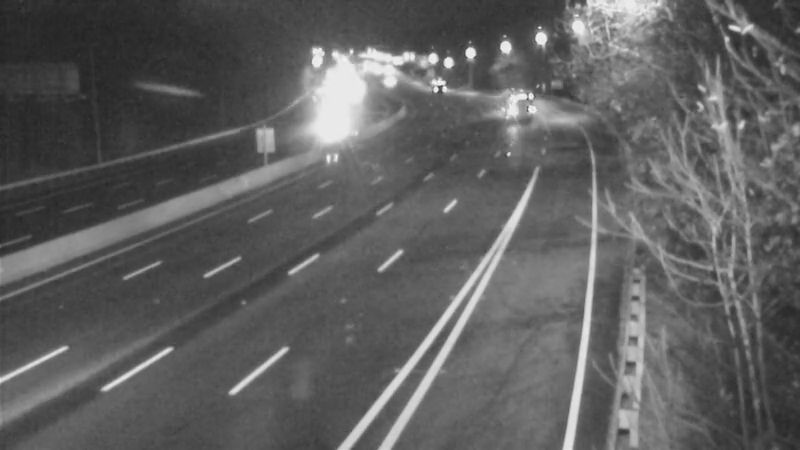vehicle: (361, 56, 411, 106), (409, 63, 459, 113), (492, 77, 542, 127), (305, 95, 355, 145)
